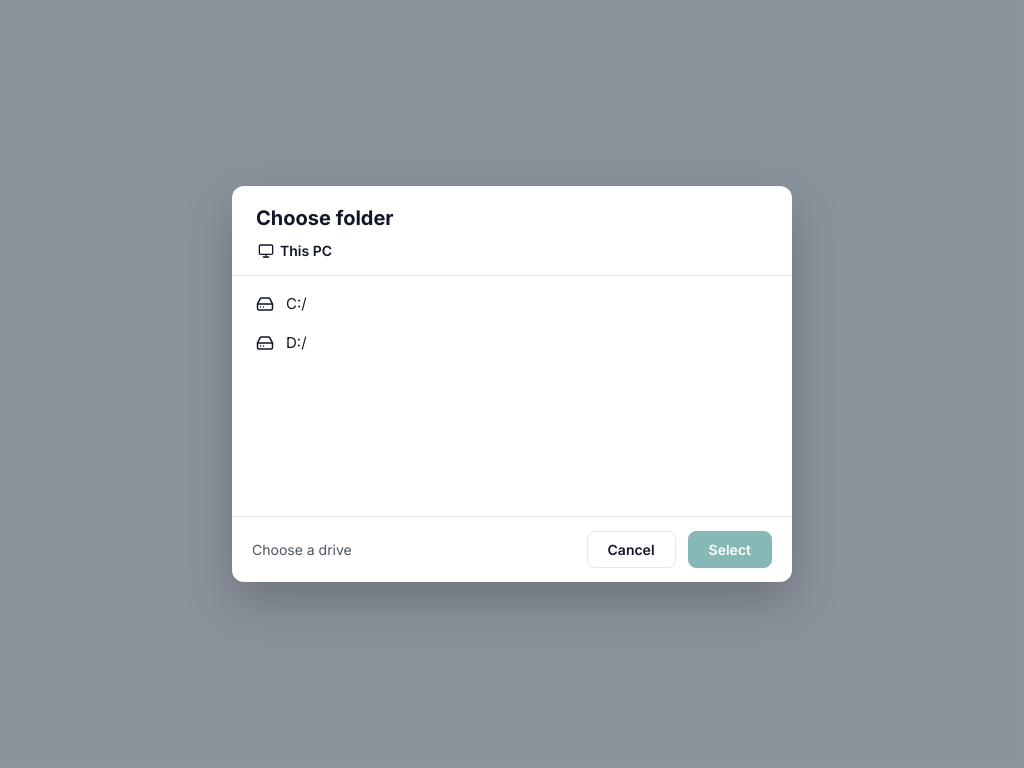
Test: FolderPickerDialog contents › lists folders but not files
Click the button "C:/". click: (265, 304)
box: [244,284,780,323]
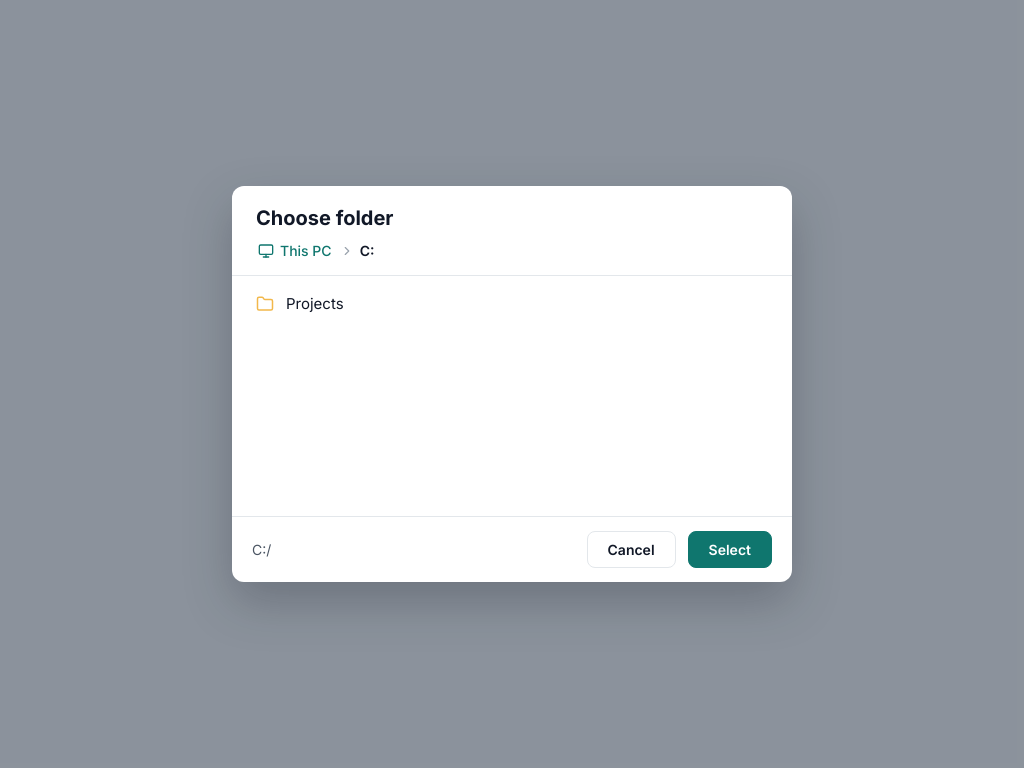
Expected: the button "Projects" is shown, [244,284,780,323]
